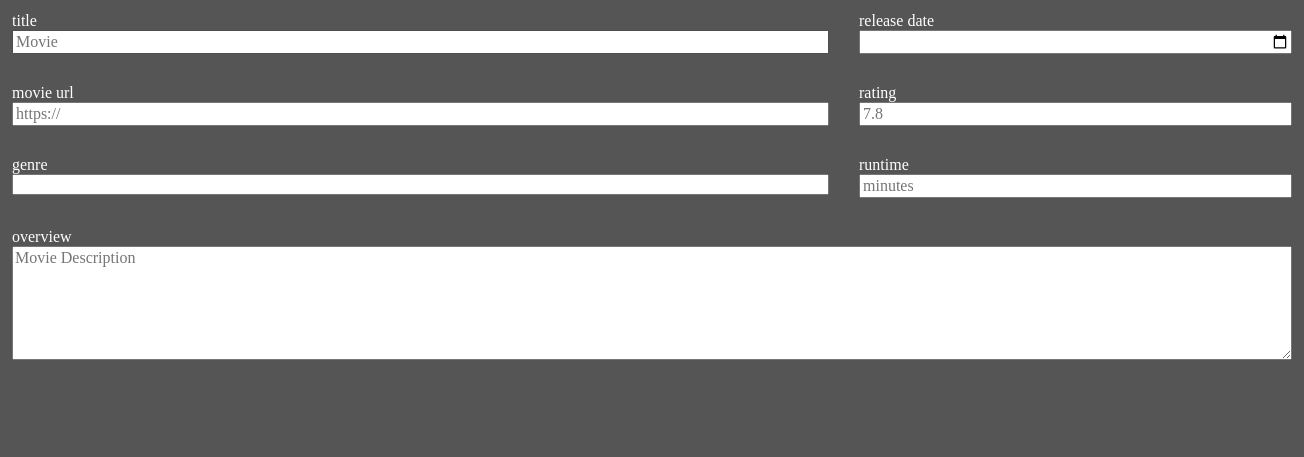
Test: add movie form › shows error messages
This screenshot has width=1304, height=457.
Step 1. Click the field labelled "title" → (420, 42), box [12,30,829,54]
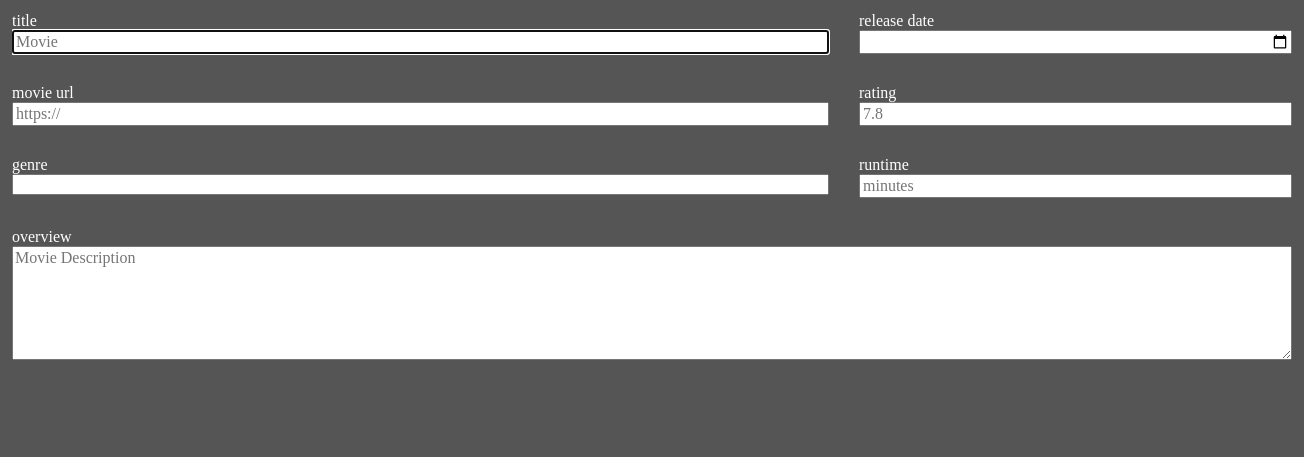
Step 2. Type "some url" into the field labelled "movie url" → (420, 114), box [12,102,829,126]
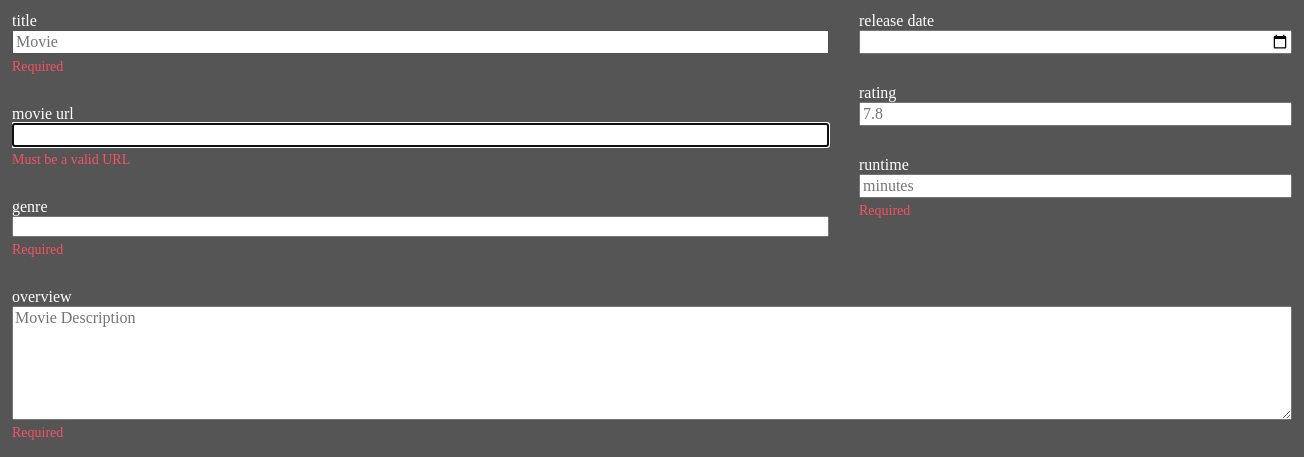
expect the text "Must be a valid URL" is shown: met, box [12,152,130,167]
expect the text "Required" is shown 4 times: met, box [12,59,63,74]; [12,242,63,257]; [859,203,910,218]; [12,425,63,440]
